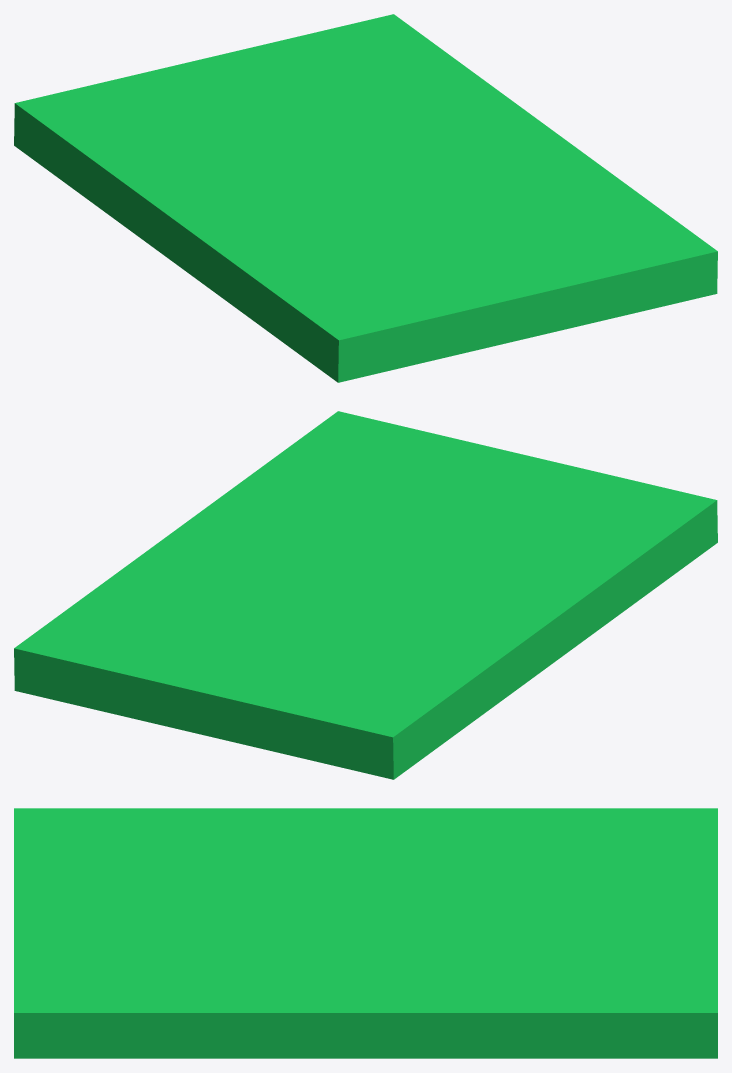
File: GreenPressurePlate.glb
3 renders of one model, top to bottom at view 1: azimuth 30°, elevation 25°; view 2: azimuth 150°, elevation 25°; view 3: azimuth 270°, elevation 25°, orthographic. The views are drawn at different scales.
Visible parts, largest first — view 1: GreenButton; view 2: GreenButton; view 3: GreenButton.
Part boxes in pixels (<box>): GreenButton: <box>14,14,717,382</box>; GreenButton: <box>14,411,717,779</box>; GreenButton: <box>14,808,717,1058</box>.
Size of the model in its own units: 1.65 by 0.1897 by 2.44.
